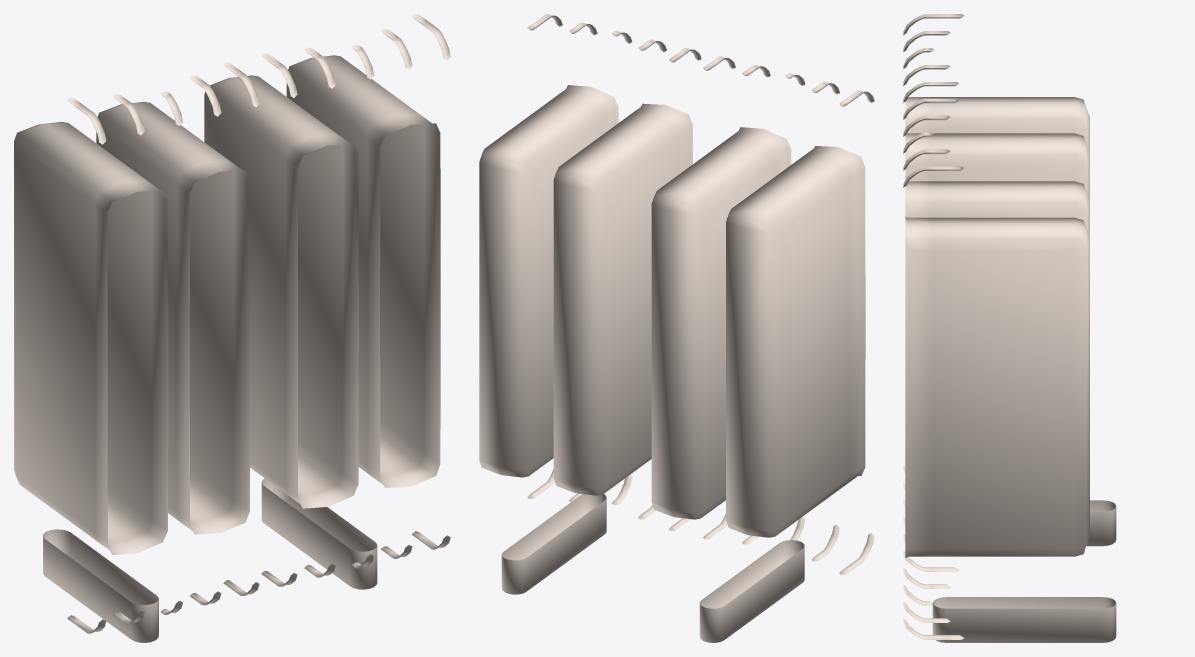
Rendered from MeshToaster_30_0_GeomSubset_2.obj.
3 renders of one model, left to right at view 1: azimuth 30°, elevation 25°; view 2: azimuth 150°, elevation 25°; view 3: azimuth 270°, elevation 25°, orthographic. The views are drawn at different scales.
Visible parts, largest first — view 1: MeshToaster_30_0_GeomSubset_2; view 2: MeshToaster_30_0_GeomSubset_2; view 3: MeshToaster_30_0_GeomSubset_2.
Boxes of the visible parts, bbox=[...] form: MeshToaster_30_0_GeomSubset_2: bbox=[14, 14, 450, 642]; MeshToaster_30_0_GeomSubset_2: bbox=[479, 14, 874, 642]; MeshToaster_30_0_GeomSubset_2: bbox=[903, 14, 1116, 642].
Size of the model in its own units: 0.2177 by 0.3239 by 0.1641.
